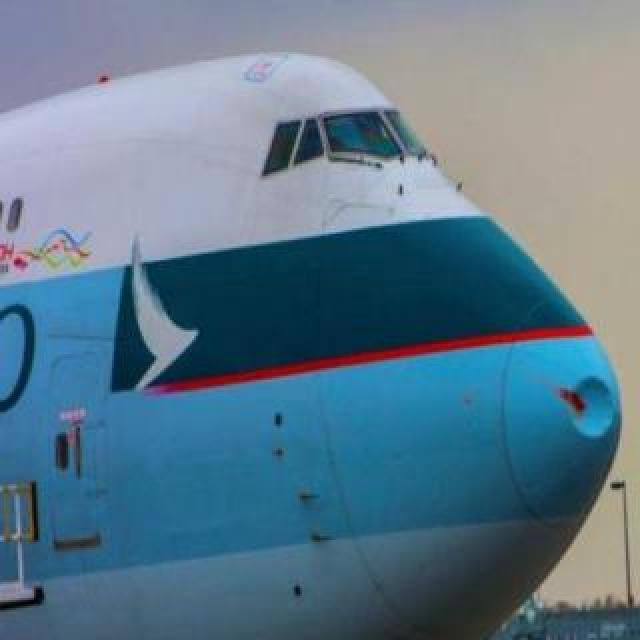dent: (556, 361, 618, 463)
